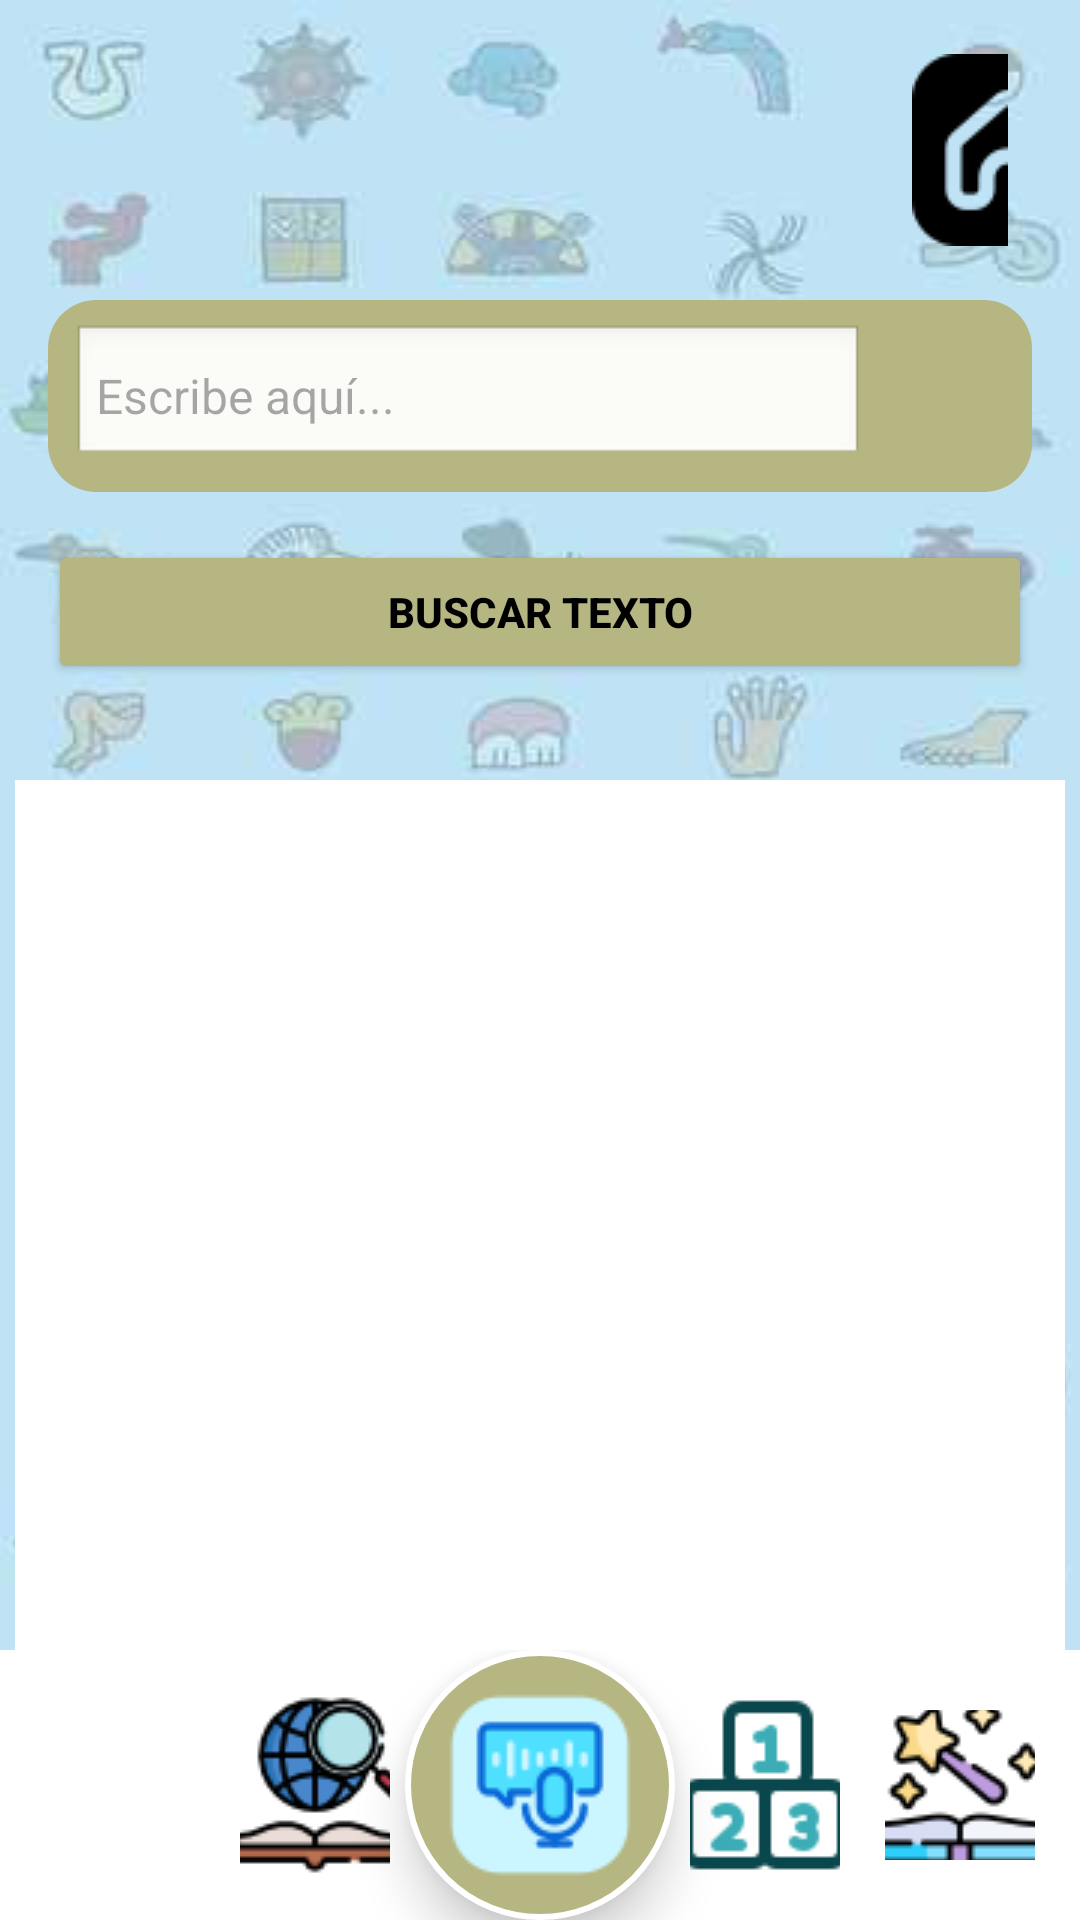

Where to tap for icons on this 1080px x 1920px app screen, as point (x, y):
Glosario: point (315, 1785)
Matemáticas: point (765, 1785)
Voz: point (540, 1788)
